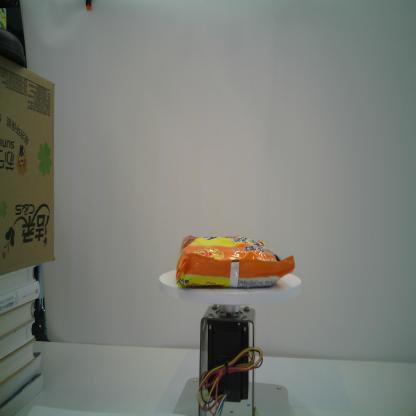Instant Noodles: (174, 233, 295, 290)
